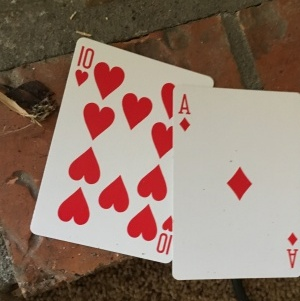card: (32, 36, 175, 265)
